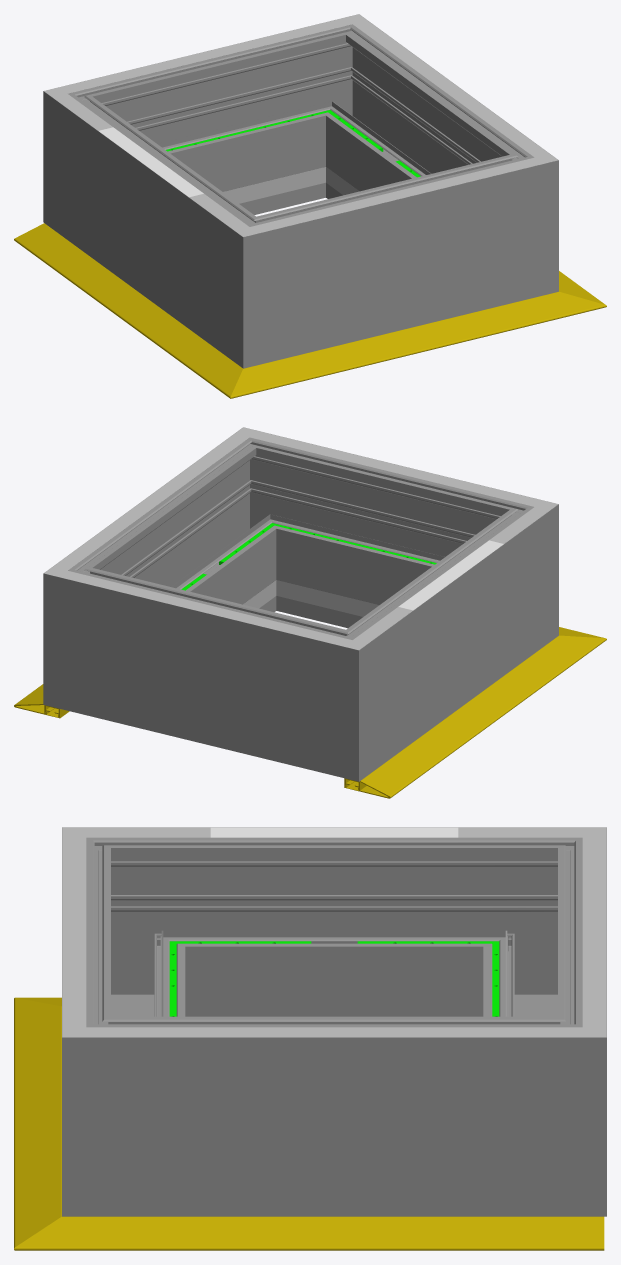
The picture shows the model from 3 angles, top to bottom: view 1: azimuth 30°, elevation 25°; view 2: azimuth 150°, elevation 25°; view 3: azimuth 270°, elevation 25°; orthographic projection. The views are drawn at different scales.
Visible parts, largest first — view 1: 3DGeom-270, 3DGeom-298, 3DGeom-276, 3DGeom-290, 3DGeom-268, 3DGeom-284, 3DGeom-297, 3DGeom-278, 3DGeom-38, 3DGeom-28, 3DGeom-35, 3DGeom-33 (+9 smaller); view 2: 3DGeom-278, 3DGeom-276, 3DGeom-298, 3DGeom-284, 3DGeom-268, 3DGeom-290, 3DGeom-297, 3DGeom-270, 3DGeom-38, 3DGeom-35, 3DGeom-246, 3DGeom-306 (+8 smaller); view 3: 3DGeom-297, 3DGeom-268, 3DGeom-284, 3DGeom-290, 3DGeom-278, 3DGeom-270, 3DGeom-30, 3DGeom-33, 3DGeom-28, 3DGeom-276, 3DGeom-298, 3DGeom-306 (+9 smaller).
Part boxes in pixels (x1,y1,x2,y2): 3DGeom-270: [189, 190, 337, 368]; 3DGeom-298: [320, 170, 464, 345]; 3DGeom-276: [140, 37, 310, 214]; 3DGeom-290: [447, 121, 558, 314]; 3DGeom-268: [97, 123, 219, 328]; 3DGeom-284: [267, 14, 412, 201]; 3DGeom-297: [335, 54, 504, 197]; 3DGeom-278: [43, 68, 182, 261]; 3DGeom-38: [14, 223, 205, 358]; 3DGeom-28: [307, 307, 512, 375]; 3DGeom-35: [176, 342, 324, 398]; 3DGeom-33: [495, 271, 606, 329]; 3DGeom-278: [265, 603, 413, 781]; 3DGeom-276: [137, 583, 282, 758]; 3DGeom-298: [292, 450, 464, 628]; 3DGeom-284: [43, 534, 154, 727]; 3DGeom-268: [383, 536, 504, 741]; 3DGeom-290: [189, 427, 335, 614]; 3DGeom-297: [98, 467, 267, 610]; 3DGeom-270: [419, 481, 558, 674]; 3DGeom-38: [344, 662, 552, 798]; 3DGeom-35: [522, 627, 606, 679]; 3DGeom-246: [243, 580, 367, 616]; 3DGeom-306: [265, 607, 412, 650]; 3DGeom-297: [210, 1016, 458, 1216]; 3DGeom-268: [210, 827, 458, 1016]; 3DGeom-284: [458, 975, 606, 1216]; 3DGeom-290: [62, 975, 210, 1216]; 3DGeom-278: [458, 827, 606, 1016]; 3DGeom-270: [62, 827, 210, 1016]; 3DGeom-30: [162, 1216, 604, 1250]; 3DGeom-33: [14, 1174, 162, 1250]; 3DGeom-28: [14, 1049, 61, 1185]; 3DGeom-276: [483, 890, 606, 1016]; 3DGeom-298: [62, 890, 185, 1016]; 3DGeom-306: [458, 827, 606, 890].
Size of the model in its own units: 0.6096 by 0.2195 by 0.6096.
